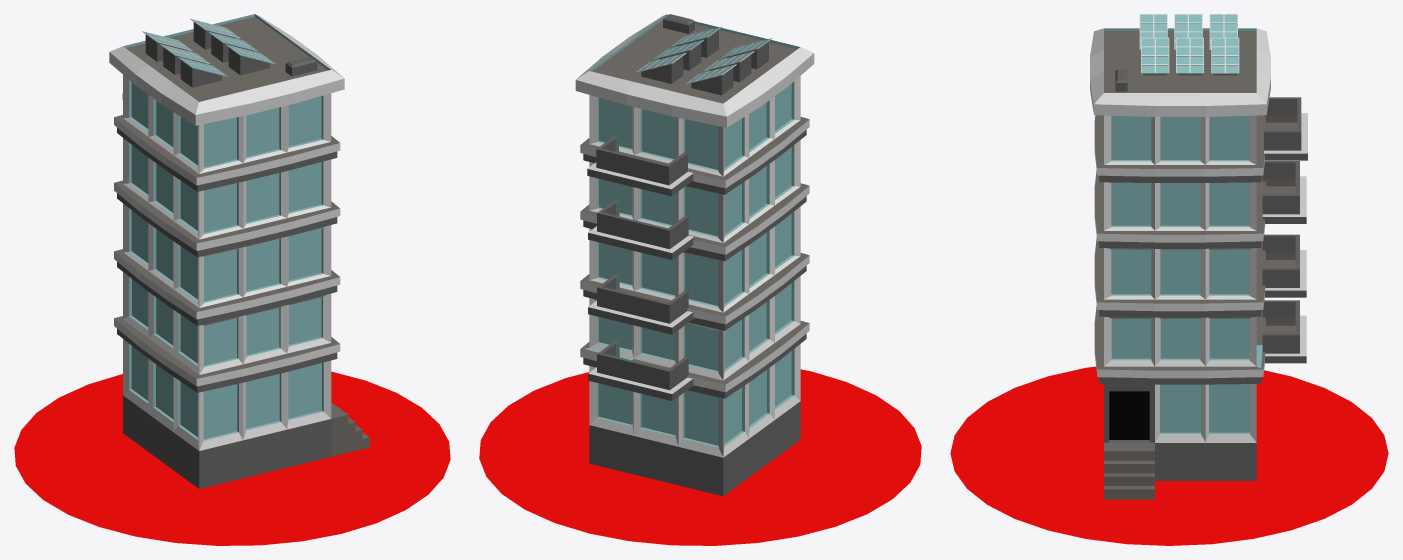
Rendered from BuildingRot.fbx.
3 renders of one model, left to right at view 1: azimuth 30°, elevation 25°; view 2: azimuth 150°, elevation 25°; view 3: azimuth 270°, elevation 25°, orthographic.
Parts seen in each view (by area): view 1: Building; view 2: Building; view 3: Building.
Part boxes in pixels (x1,y1,x2,y2): Building: (14,14,450,545); Building: (479,14,921,545); Building: (950,14,1388,545).
Bounding box in the file's own units: 586 × 608 × 586.
